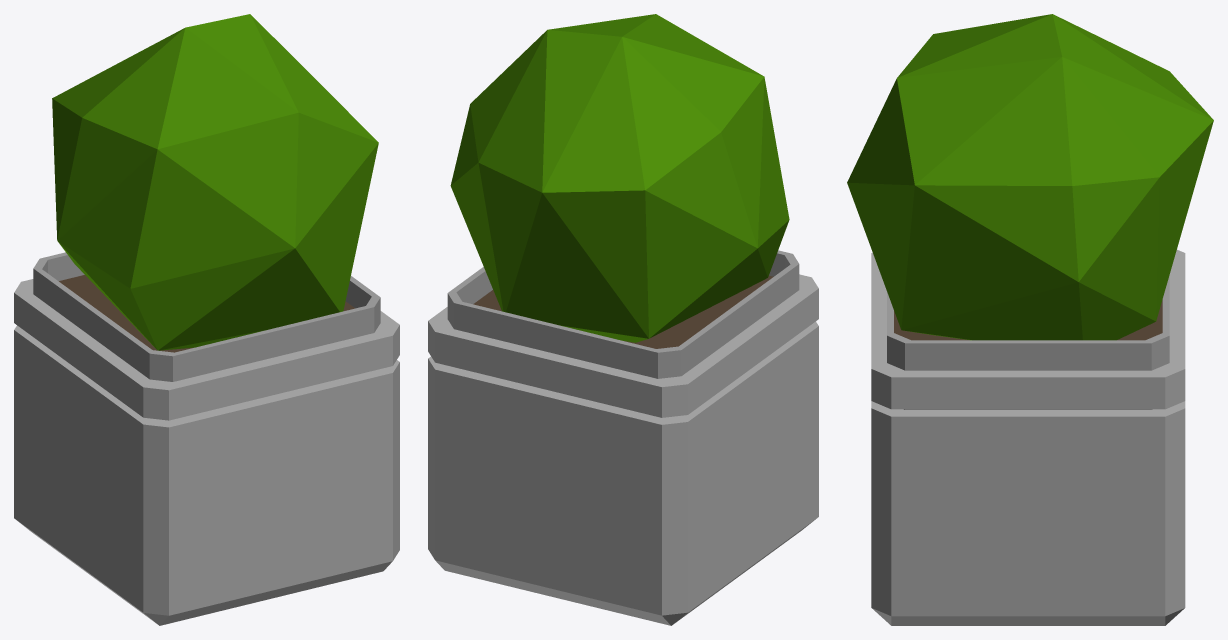
File: Vaso_01.fbx
3 renders of one model, left to right at view 1: azimuth 30°, elevation 25°; view 2: azimuth 150°, elevation 25°; view 3: azimuth 270°, elevation 25°, orthographic. The views are drawn at different scales.
Visible parts, largest first — view 1: Vaso, Cube.013, Terra; view 2: Vaso, Cube.013, Terra; view 3: Vaso, Cube.013, Terra.
Boxes of the visible parts, left/top/right/bottom form: Vaso: left=14, top=252, right=399, bottom=625; Cube.013: left=52, top=14, right=378, bottom=350; Terra: left=59, top=275, right=354, bottom=352; Vaso: left=428, top=250, right=818, bottom=625; Cube.013: left=450, top=14, right=789, bottom=342; Terra: left=473, top=275, right=773, bottom=348; Vaso: left=871, top=249, right=1185, bottom=625; Cube.013: left=847, top=14, right=1213, bottom=340; Terra: left=894, top=300, right=1162, bottom=340.
Bounding box in the file's own units: 1.12 × 1.17 × 1.93.
